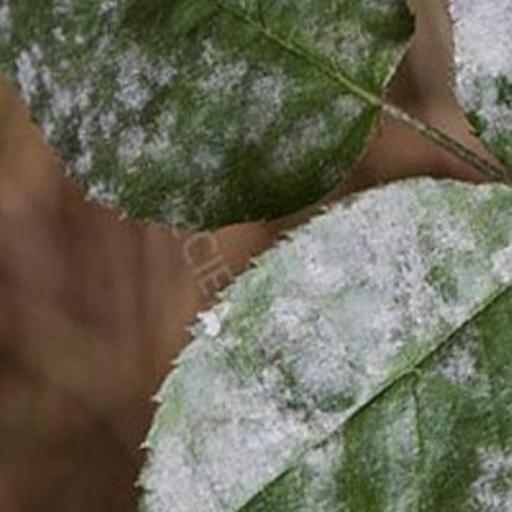powdery_mildew: (140, 179, 512, 512), (0, 0, 412, 228)
